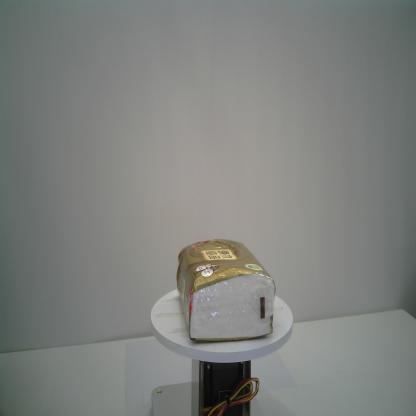Tissue: (176, 237, 276, 342)
